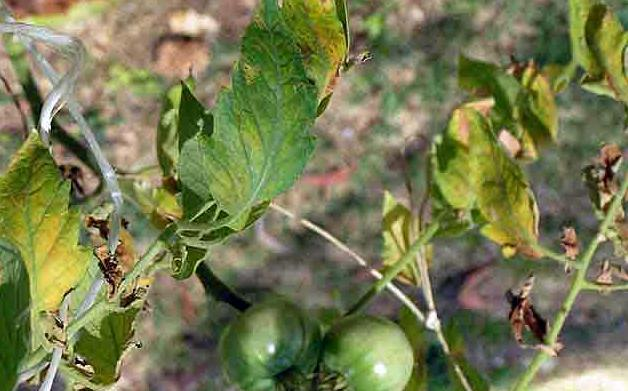Tomato mold leaf: (196, 0, 359, 216), (0, 113, 97, 326), (456, 115, 553, 258)
